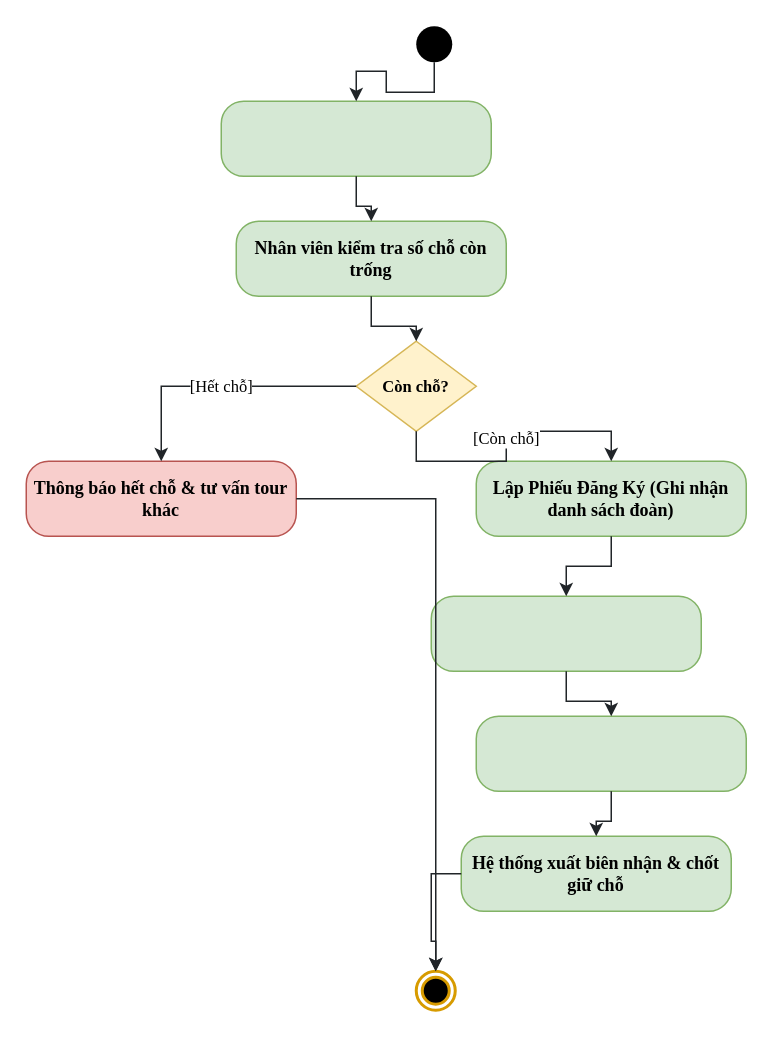
Image size: 773x1037. Some labels were removed from this diagram. Here are the shapes that lost their labels. From the top down, the centre of each, then its label:
At point 355,138: "Khách hàng chọn Tour & ngày khởi hành".
At point 565,633: "Tính toán tổng chi phí & yêu cầu đặt cọc (>= 30%)".
At point 610,753: "Khách hàng thanh toán đặt cọc".
